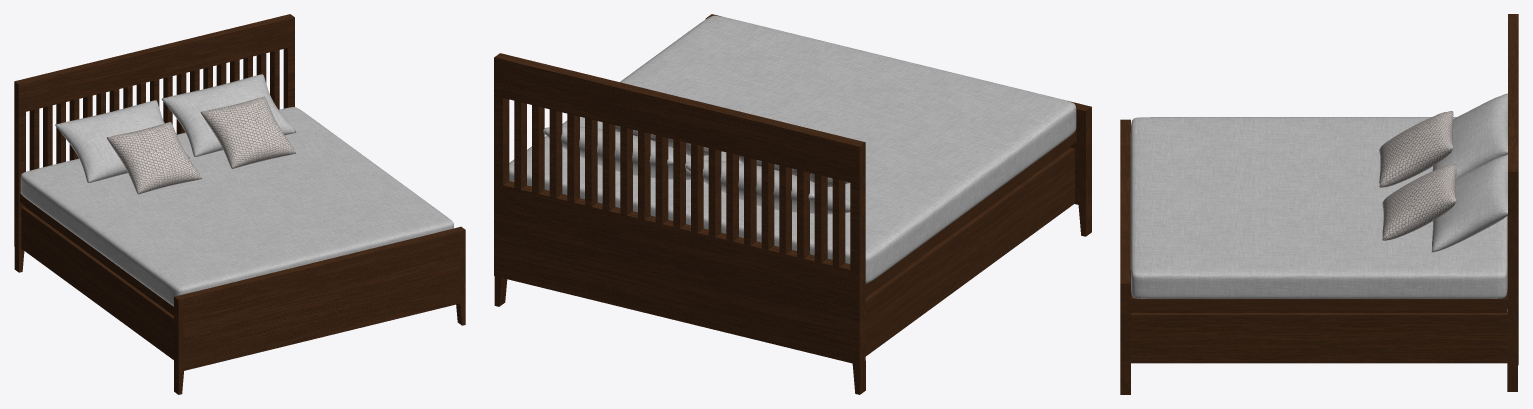
The model's file is ikea-idanas-storage-bed.glb.
3 renders of one model, left to right at view 1: azimuth 30°, elevation 25°; view 2: azimuth 150°, elevation 25°; view 3: azimuth 270°, elevation 25°, orthographic. The views are drawn at different scales.
Parts seen in each view (by area): view 1: Saltea, Cube.001, Cube.003, Cube.011, Cube.017, Cube.012, Cube.008, Storage1, Storage2, Cube.004, Cube.014, Cube.013; view 2: Cube.003, Saltea, Storage2, Storage1, Cube.004, Cube.014, Cube.011, Cube.008; view 3: Saltea, Storage3, Storage4, Cube.008, Cube.004, Cube.003, Cube.017, Cube.012, Cube.011, Cube.001, Cube.005, Cube.013.
Boxes of the visible parts, <box> form: Saltea: <box>20,107,453,306</box>; Cube.001: <box>180,228,460,370</box>; Cube.003: <box>14,14,294,249</box>; Cube.011: <box>55,100,189,182</box>; Cube.017: <box>200,96,295,168</box>; Cube.012: <box>107,122,201,194</box>; Cube.008: <box>161,74,295,156</box>; Storage1: <box>21,206,104,307</box>; Storage2: <box>102,265,173,359</box>; Cube.004: <box>20,193,173,314</box>; Cube.014: <box>174,295,183,394</box>; Cube.013: <box>456,226,465,325</box>; Cube.003: <box>494,53,865,364</box>; Saltea: <box>509,15,1076,283</box>; Storage2: <box>965,148,1074,280</box>; Storage1: <box>865,225,968,356</box>; Cube.004: <box>865,130,1076,295</box>; Cube.014: <box>1078,105,1091,236</box>; Cube.011: <box>685,160,850,214</box>; Cube.008: <box>543,126,690,179</box>; Saltea: <box>1130,117,1507,298</box>; Storage3: <box>1319,309,1507,363</box>; Storage4: <box>1131,313,1319,363</box>; Cube.008: <box>1431,154,1507,252</box>; Cube.004: <box>1131,215,1507,308</box>; Cube.003: <box>1508,14,1518,365</box>; Cube.017: <box>1382,164,1456,240</box>; Cube.012: <box>1379,111,1453,187</box>; Cube.011: <box>1432,93,1507,178</box>; Cube.001: <box>1120,122,1130,280</box>; Cube.005: <box>1131,309,1507,312</box>; Cube.013: <box>1120,280,1130,394</box>.
Size of the model in its own units: 2.91 by 1.82 by 2.99.
4 materials, 4 textured.
